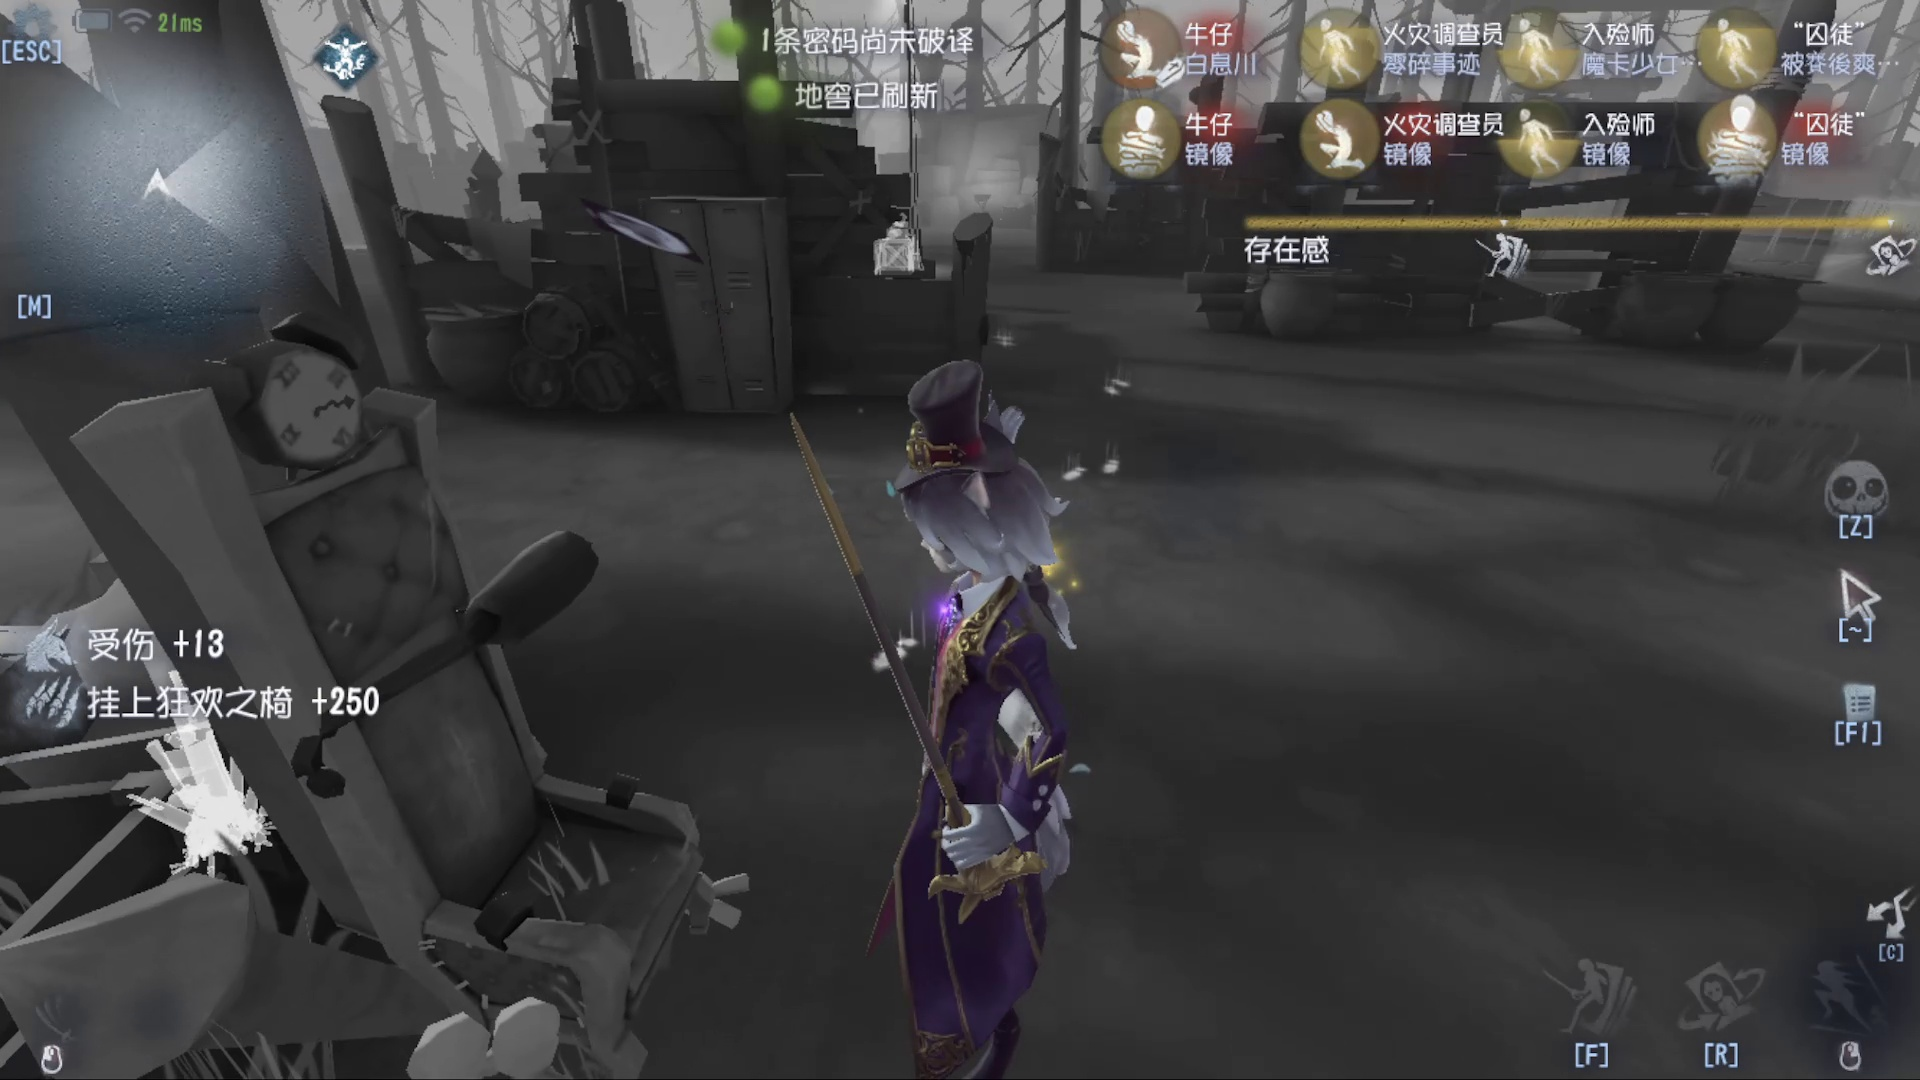密码机: (835, 142, 939, 298)
狂欢之椅: (26, 158, 802, 1039)
